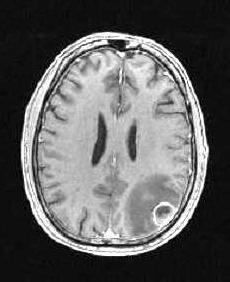Normal_Brain: (1, 16, 230, 282)
